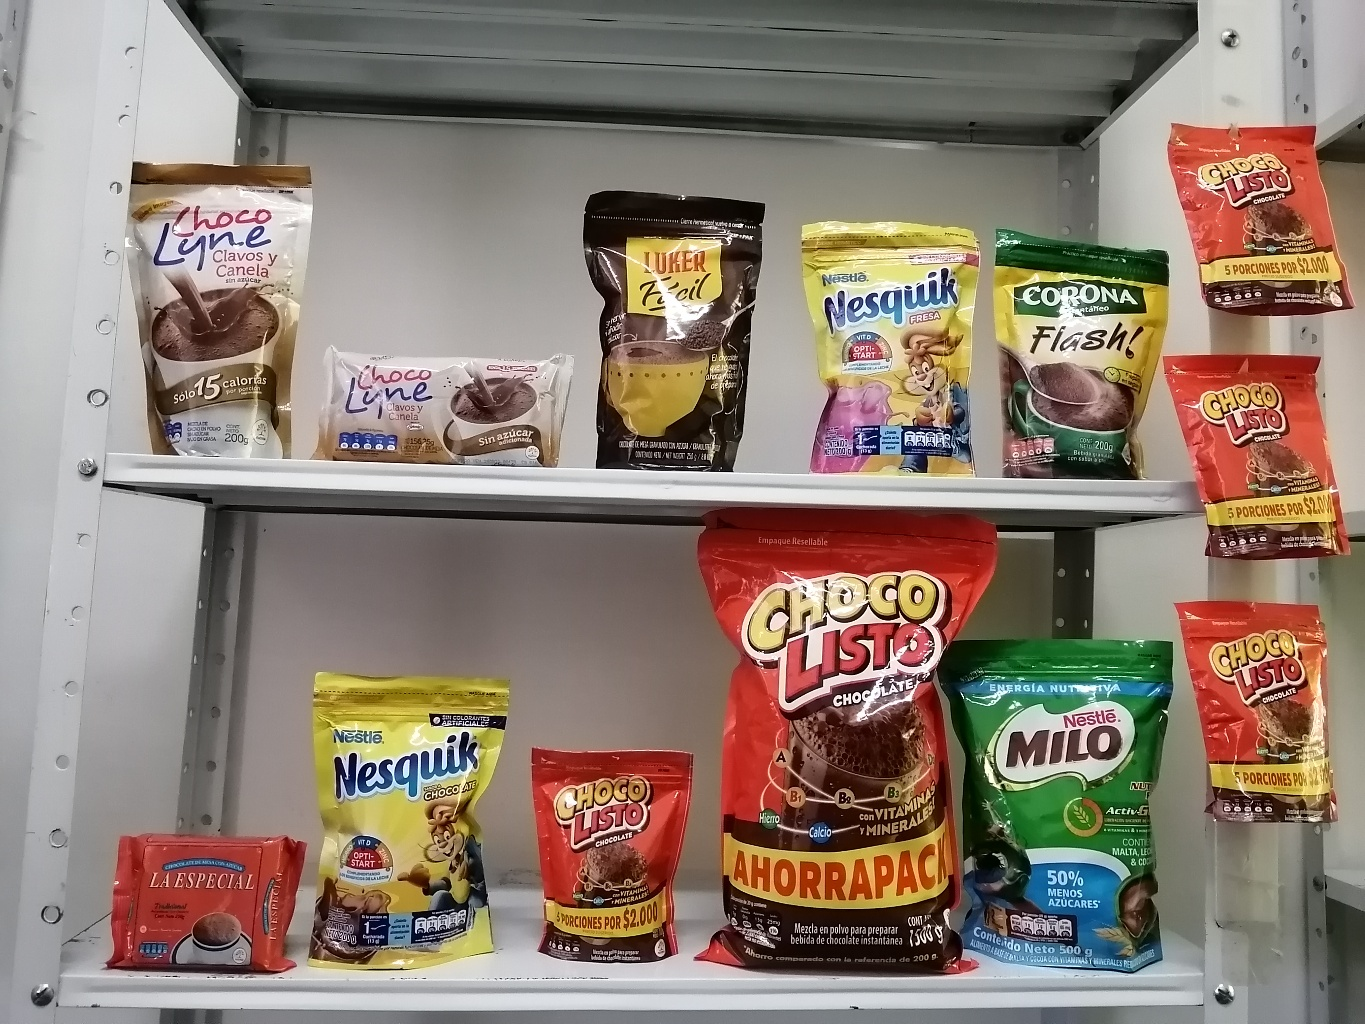COL0170103DYP1,500: (692, 504, 995, 1008)
COL0170205DYP50000: (941, 622, 1185, 975)
COL0170303DYP20000: (296, 658, 517, 976)
COL0170305DYP20000: (791, 216, 984, 478)
